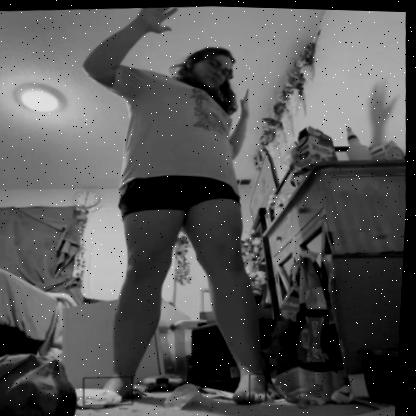person: (83, 7, 273, 405)
